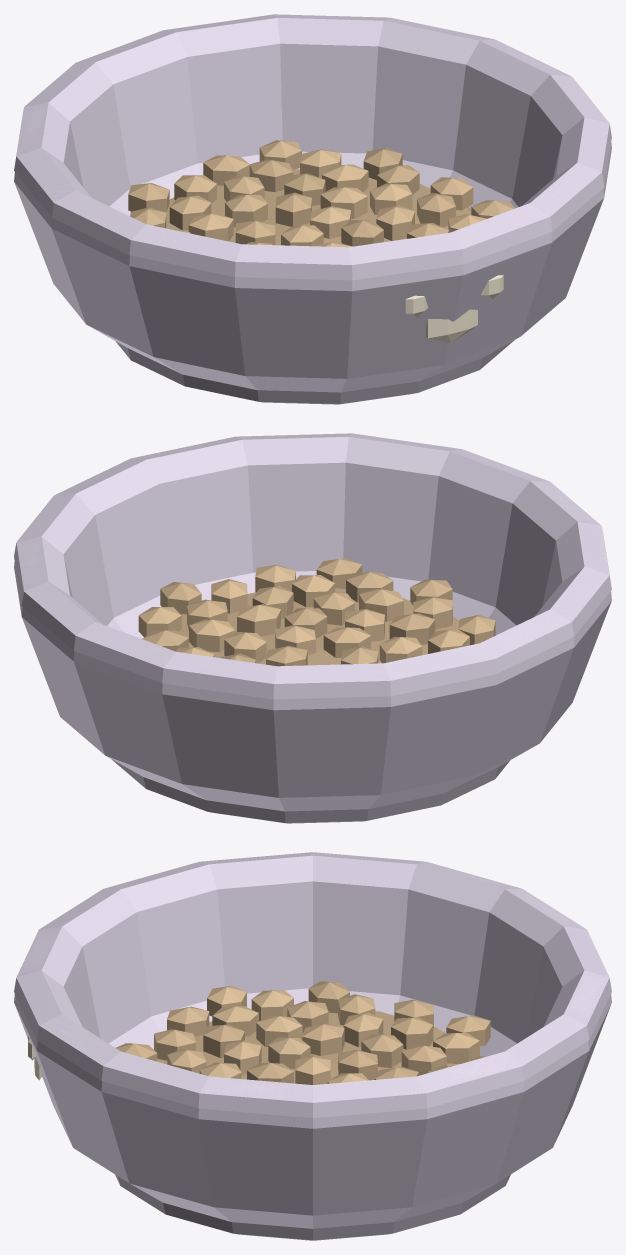
File: crafted-cat-food-2-1.glb
The picture shows the model from 3 angles, top to bottom: view 1: azimuth 30°, elevation 25°; view 2: azimuth 150°, elevation 25°; view 3: azimuth 270°, elevation 25°; orthographic projection.
Parts seen in each view (by area): view 1: ceramic-bowl, glazed-rim, foot-ring, ration-volume, ration-granule-2, paw-pad, ration-granule-21, ration-granule-7, ration-granule-5, ration-granule-8, ration-granule-41, ration-granule-36 (+19 smaller); view 2: ceramic-bowl, glazed-rim, foot-ring, ration-volume, ration-granule-8, ration-granule-13, ration-granule-14, ration-granule-19, ration-granule-1, ration-granule-34, ration-granule-5, ration-granule-11 (+19 smaller); view 3: ceramic-bowl, glazed-rim, foot-ring, ration-volume, ration-granule-4, ration-granule-28, ration-granule-20, ration-granule-9, ration-granule-7, ration-granule-15, ration-granule-1, ration-granule-35 (+17 smaller).
Part boxes in pixels (left/top/right/bottom): ceramic-bowl: left=14, top=14, right=611, bottom=392; glazed-rim: left=14, top=14, right=611, bottom=280; foot-ring: left=116, top=340, right=514, bottom=404; ration-volume: left=166, top=169, right=471, bottom=245; ration-granule-2: left=275, top=192, right=311, bottom=226; paw-pad: left=426, top=309, right=477, bottom=343; ration-granule-21: left=417, top=193, right=455, bottom=227; ration-granule-7: left=225, top=194, right=267, bottom=227; ration-granule-5: left=320, top=187, right=367, bottom=218; ration-granule-8: left=376, top=205, right=414, bottom=240; ration-granule-41: left=128, top=183, right=169, bottom=212; ration-granule-36: left=203, top=155, right=249, bottom=185; ceramic-bowl: left=14, top=433, right=611, bottom=811; glazed-rim: left=14, top=433, right=611, bottom=699; foot-ring: left=111, top=759, right=509, bottom=823; ration-volume: left=178, top=588, right=459, bottom=665; ration-granule-8: left=237, top=604, right=280, bottom=636; ration-granule-13: left=189, top=619, right=235, bottom=652; ration-granule-14: left=389, top=613, right=435, bottom=644; ration-granule-19: left=359, top=588, right=403, bottom=621; ration-granule-1: left=323, top=627, right=370, bottom=657; ration-granule-34: left=138, top=607, right=181, bottom=637; ration-granule-5: left=224, top=631, right=266, bottom=663; ration-granule-11: left=313, top=591, right=354, bottom=625; ceramic-bowl: left=14, top=852, right=611, bottom=1228; glazed-rim: left=14, top=852, right=611, bottom=1117; foot-ring: left=115, top=1174, right=510, bottom=1240; ration-volume: left=157, top=1011, right=480, bottom=1083; ration-granule-4: left=302, top=1023, right=344, bottom=1055; ration-granule-28: left=433, top=1033, right=479, bottom=1063; ration-granule-20: left=391, top=1017, right=433, bottom=1049; ration-granule-9: left=256, top=1016, right=302, bottom=1046; ration-granule-7: left=361, top=1033, right=403, bottom=1067; ration-granule-15: left=401, top=1045, right=446, bottom=1075; ration-granule-1: left=268, top=1037, right=310, bottom=1068; ration-granule-35: left=167, top=1006, right=209, bottom=1036.
Size of the model in its own units: 0.76 by 0.265 by 0.76.
